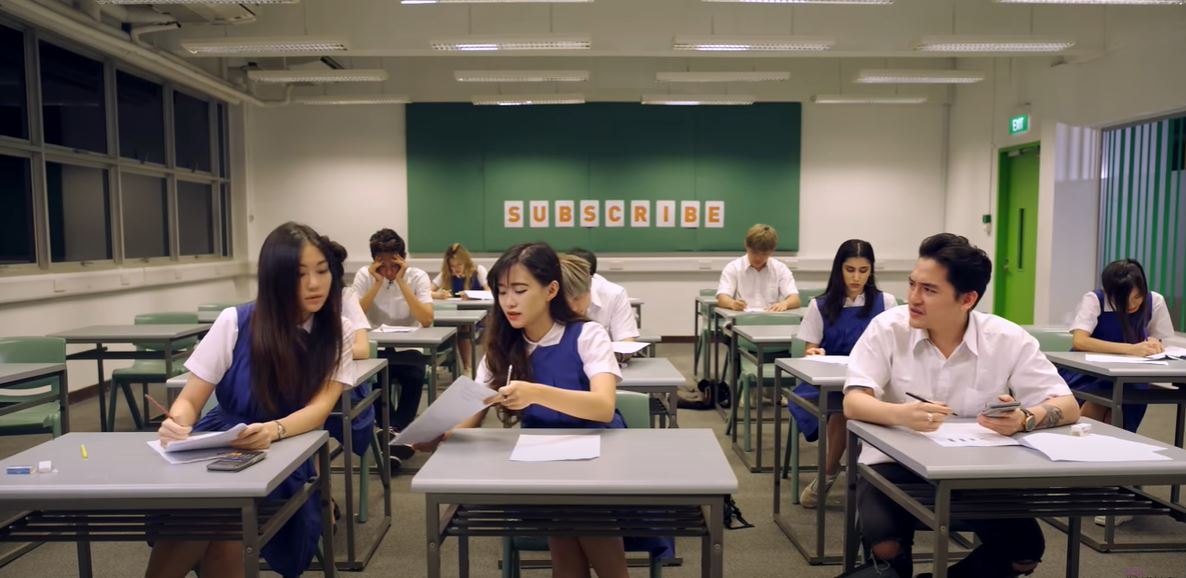student: (761, 226, 902, 362), (708, 206, 815, 330), (1069, 261, 1172, 380), (437, 241, 488, 294)
studentcopying: (459, 243, 625, 433), (869, 253, 1039, 438), (191, 234, 361, 414), (355, 232, 442, 331)
